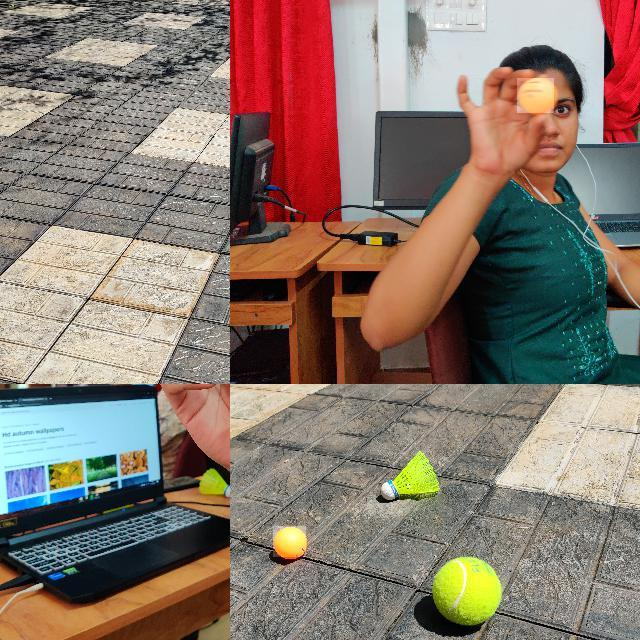ping-pong-ball: (517, 78, 555, 114), (272, 526, 308, 558)
